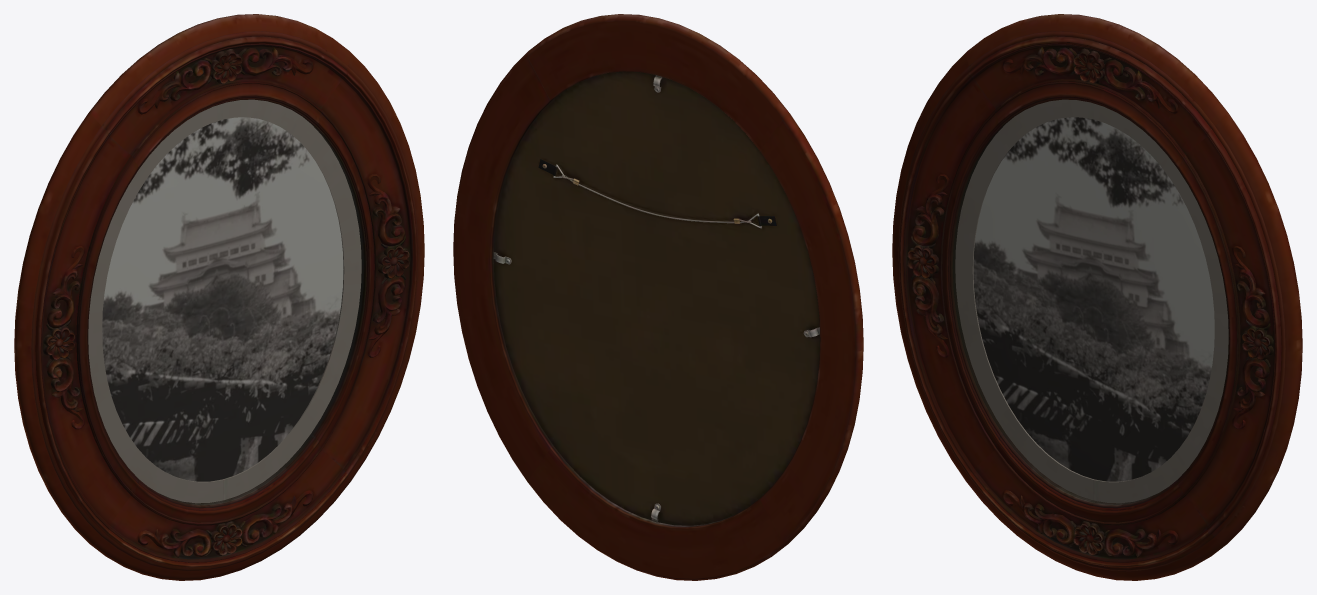
File: hanging_picture_frame_03.glb
3 views of the same model, side by side, from view 1: azimuth 30°, elevation 25°; view 2: azimuth 150°, elevation 25°; view 3: azimuth 330°, elevation 25° (orthographic).
Visible parts, largest first — view 1: hanging_picture_frame_03, hanging_picture_frame_03_glass; view 2: hanging_picture_frame_03; view 3: hanging_picture_frame_03, hanging_picture_frame_03_glass.
Part boxes in pixels (bbox=[...]): hanging_picture_frame_03: bbox=[14, 14, 424, 580]; hanging_picture_frame_03_glass: bbox=[88, 100, 363, 504]; hanging_picture_frame_03: bbox=[453, 14, 863, 580]; hanging_picture_frame_03: bbox=[892, 14, 1302, 580]; hanging_picture_frame_03_glass: bbox=[953, 100, 1228, 504].
Size of the model in its own units: 0.385 by 0.5024 by 0.0318.
Materials: 3 (2 with a texture image).
